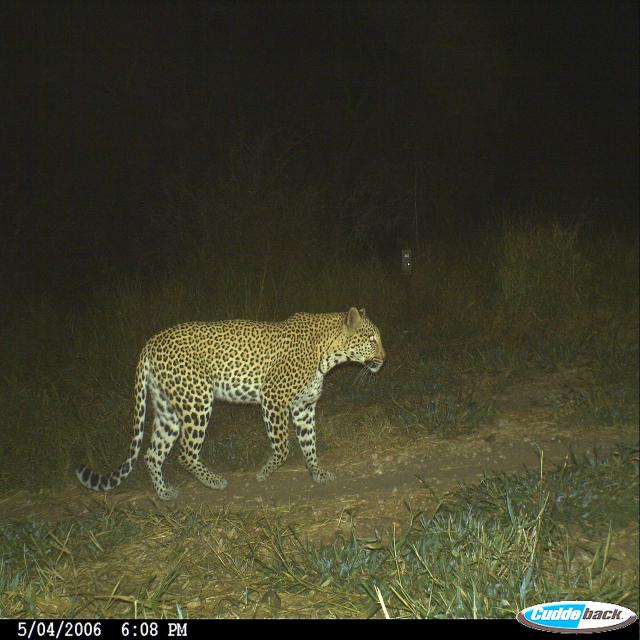Leopard: (74, 300, 390, 502)
